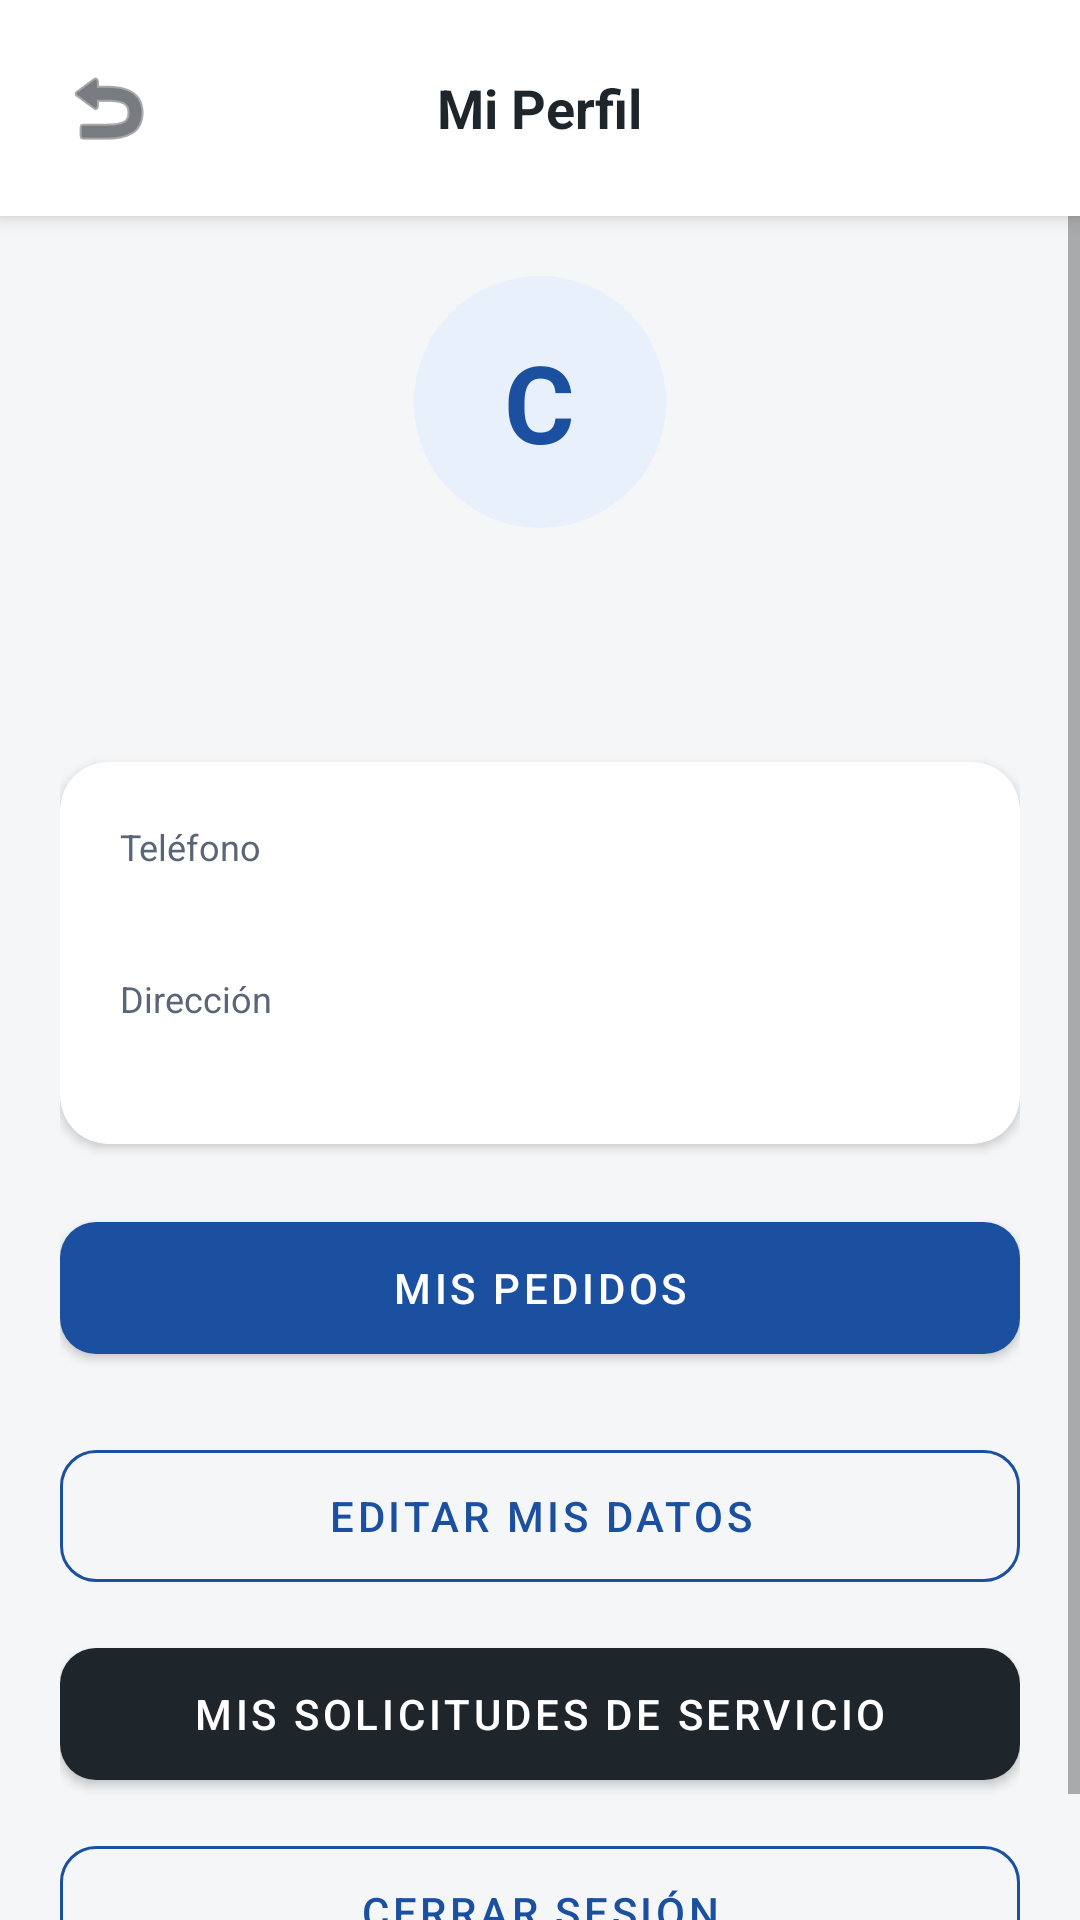

Icon bounding boxes for this 1080px x 1920px phone screenshot, format (x1, y1, x2, y2):
Volver: (75, 77, 144, 140)
